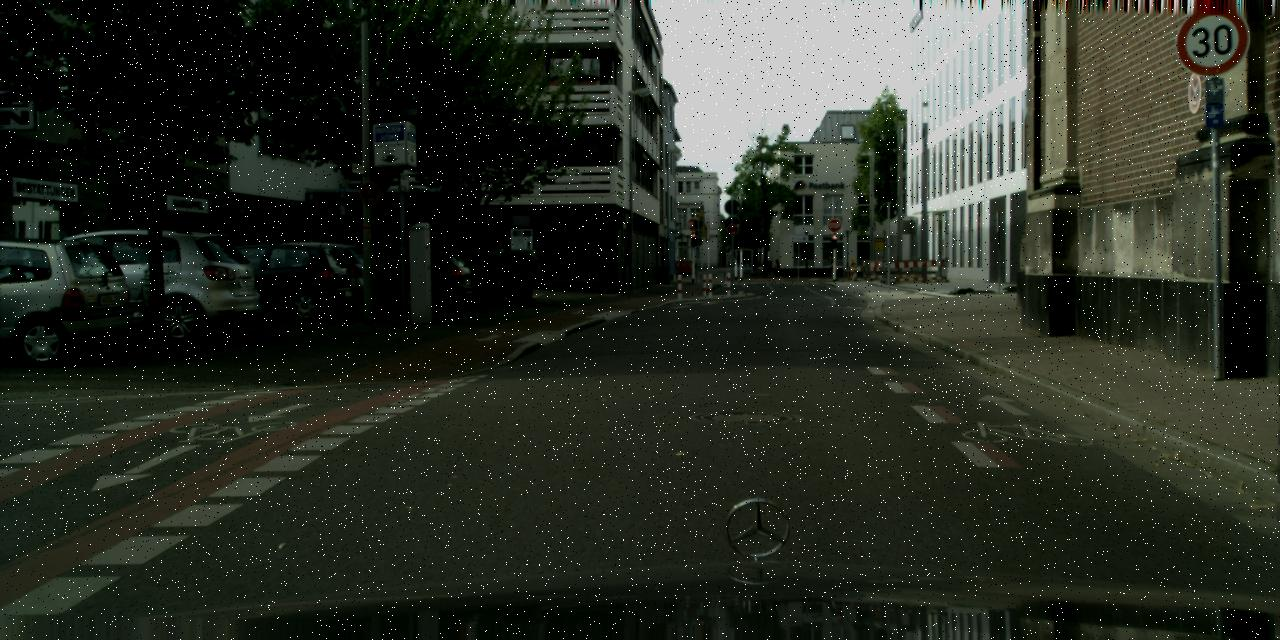ped: (827, 255, 837, 278), (772, 259, 781, 283)
